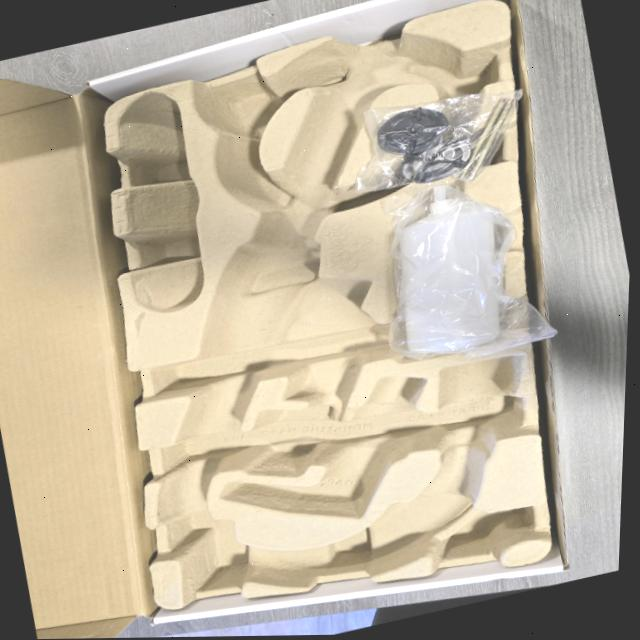1m: (155, 25, 524, 584)
2m: (221, 378, 425, 515)
3: (400, 182, 498, 359)
4m: (121, 93, 202, 311)
5m: (202, 75, 278, 134)
6m: (403, 42, 500, 93)
7: (343, 88, 523, 190)
